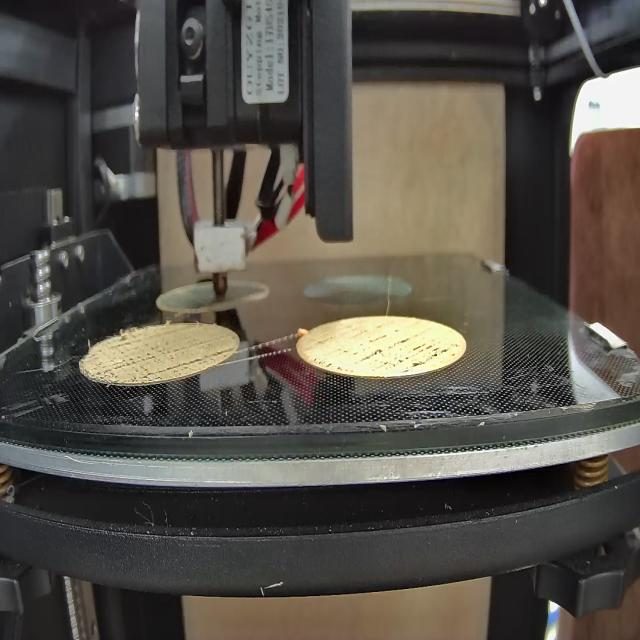under_extrusion: (90, 333, 233, 379), (311, 334, 459, 375)
